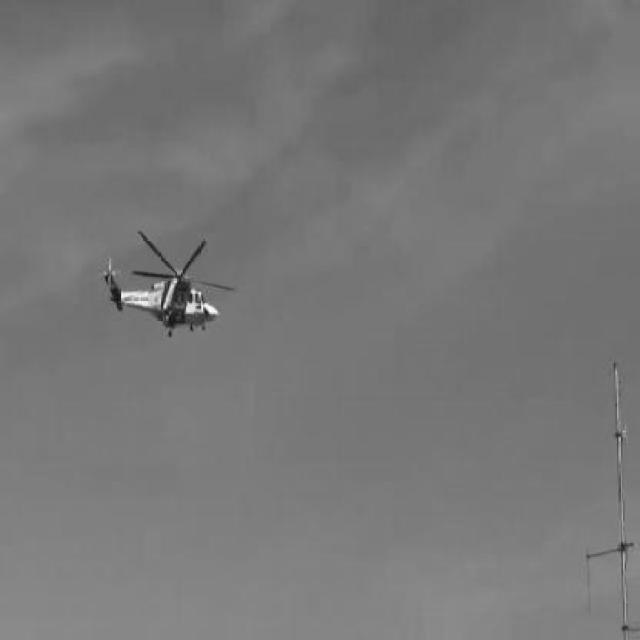helikopter: (93, 226, 244, 342)
